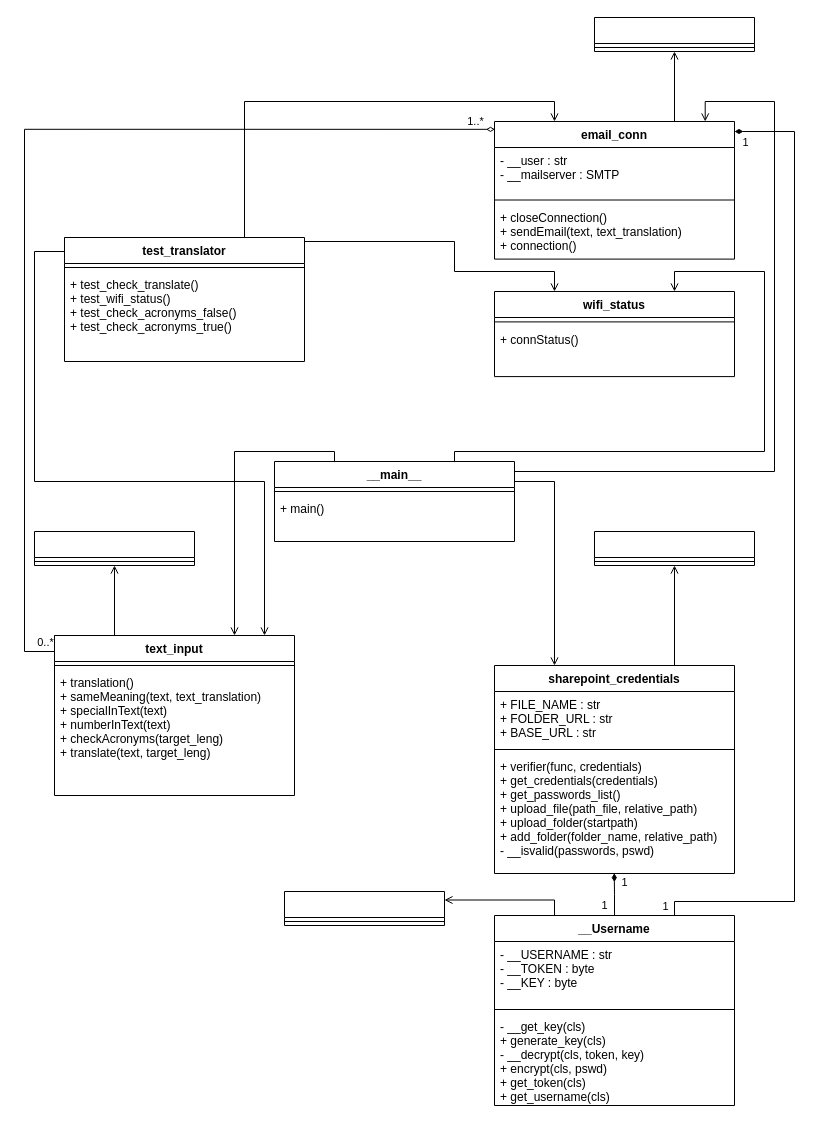
Some shapes in this 820 by 1126 pixel diagram are drawn without their labels. The shapes that lost their labels are listed below. From the top down, each one's centre as x and y in pixels, then its label:
[674,34]: smtplib
[114,548]: deep_translator
[674,548]: office365_REST
[364,908]: cryptography
